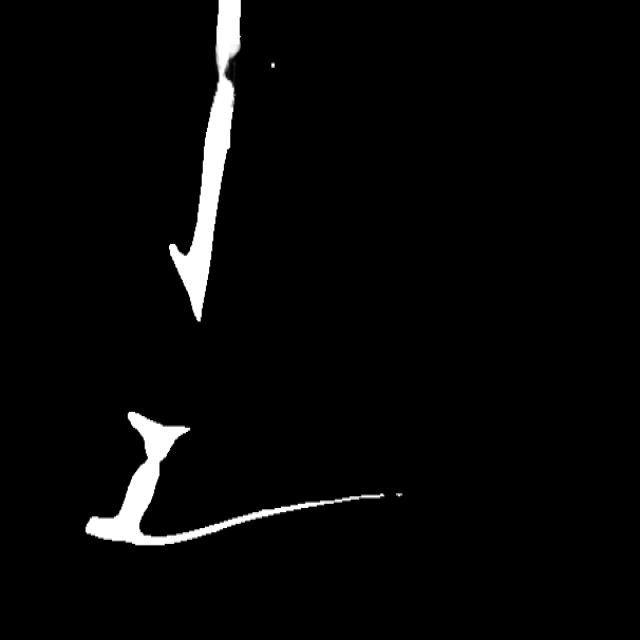sl: (210, 42, 243, 103)
